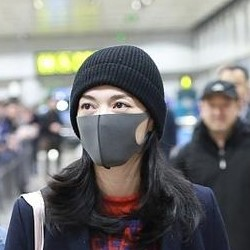mask: (69, 99, 151, 174)
